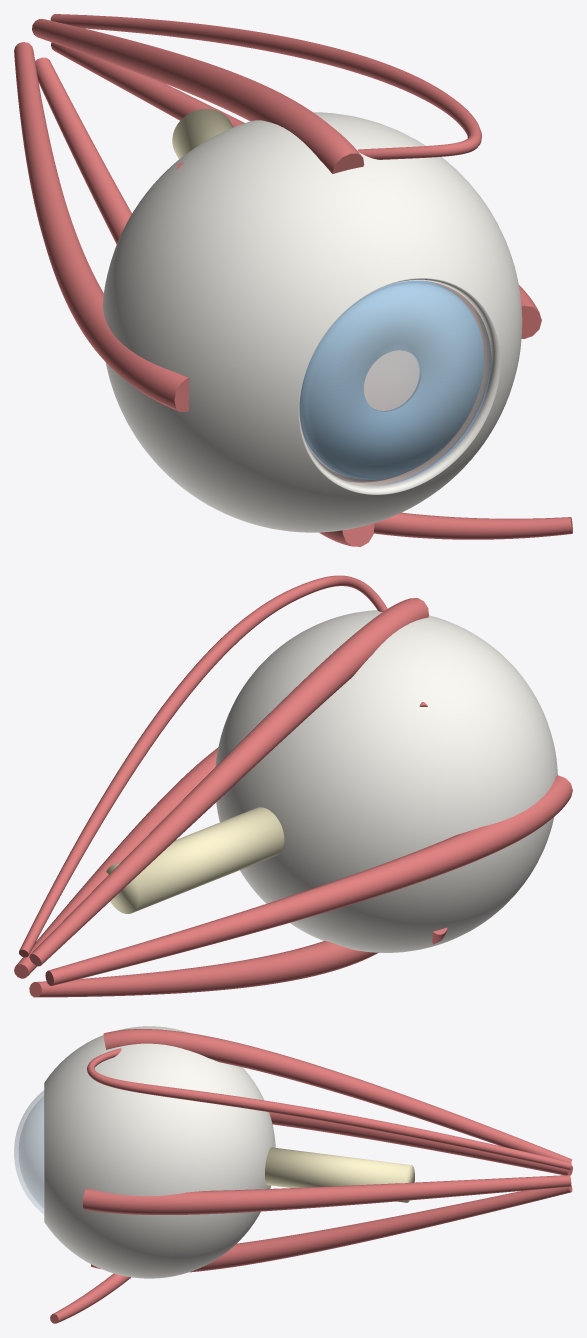
Rendered from eye.glb.
3 views of the same model, one above another, from view 1: azimuth 30°, elevation 25°; view 2: azimuth 150°, elevation 25°; view 3: azimuth 270°, elevation 25° (orthographic). The views are drawn at different scales.
Visible parts, largest first — view 1: Sclera, Cornea, Iris, LateralRectus, SuperiorRectus, SuperiorOblique, InferiorRectus, InferiorOblique, MedialRectus, Retina, AqueousHumor, OpticNerve; view 2: Sclera, LateralRectus, SuperiorRectus, OpticNerve, InferiorRectus, SuperiorOblique, MedialRectus; view 3: Sclera, MedialRectus, SuperiorRectus, InferiorRectus, SuperiorOblique, OpticNerve, LateralRectus, Cornea, AqueousHumor, InferiorOblique.
Part boxes in pixels (<box>): Sclera: <box>102,112,522,532</box>; Cornea: <box>300,281,490,485</box>; Iris: <box>299,280,483,479</box>; LateralRectus: <box>14,42,189,411</box>; SuperiorRectus: <box>32,19,364,173</box>; SuperiorOblique: <box>50,14,481,168</box>; InferiorRectus: <box>35,57,374,546</box>; InferiorOblique: <box>373,512,572,539</box>; MedialRectus: <box>51,42,541,338</box>; Retina: <box>349,309,489,485</box>; AqueousHumor: <box>309,282,468,471</box>; OpticNerve: <box>172,109,233,159</box>; Sclera: <box>215,610,557,952</box>; LateralRectus: <box>45,775,572,985</box>; SuperiorRectus: <box>29,598,428,966</box>; OpticNerve: <box>106,807,284,913</box>; InferiorRectus: <box>29,941,378,997</box>; SuperiorOblique: <box>19,575,427,957</box>; MedialRectus: <box>14,747,218,978</box>; Sclera: <box>44,1026,275,1278</box>; MedialRectus: <box>82,1175,571,1214</box>; SuperiorRectus: <box>103,1029,572,1169</box>; InferiorRectus: <box>91,1185,572,1272</box>; SuperiorOblique: <box>87,1048,571,1169</box>; OpticNerve: <box>265,1147,414,1202</box>; LateralRectus: <box>269,1112,572,1175</box>; Cornea: <box>14,1090,44,1214</box>; AqueousHumor: <box>19,1097,43,1207</box>; InferiorOblique: <box>50,1273,130,1323</box>.
Size of the model in its own units: 2.65 by 2.7 by 5.58.
